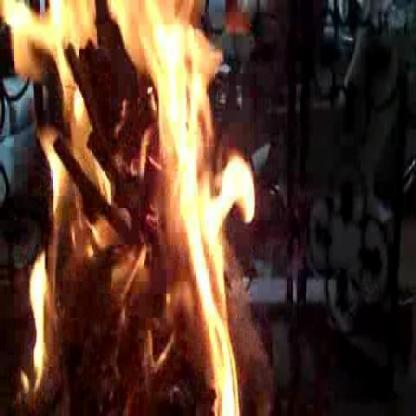fire: (0, 0, 279, 413)
